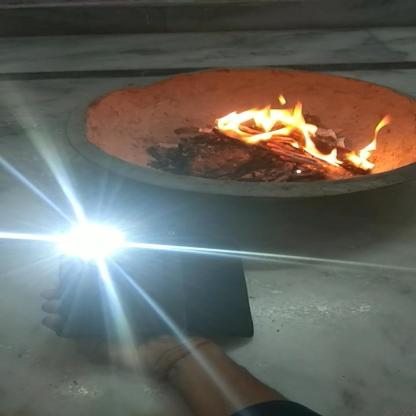fire: (213, 94, 395, 171)
